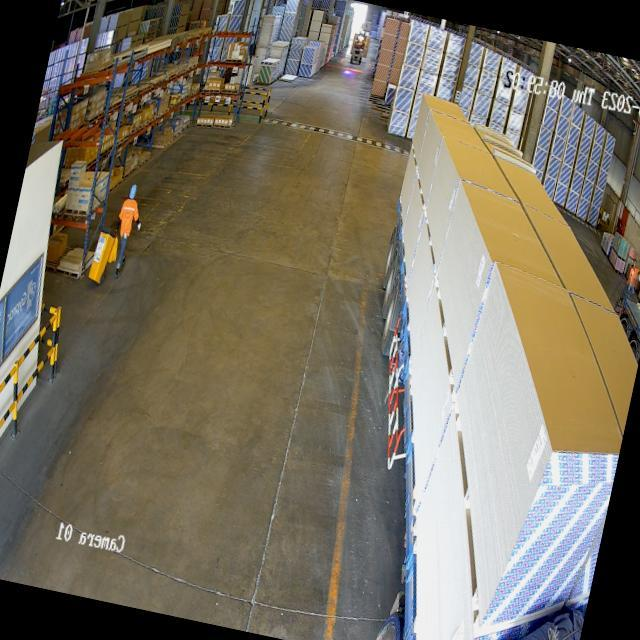person: (104, 178, 150, 282), (626, 259, 640, 288)
